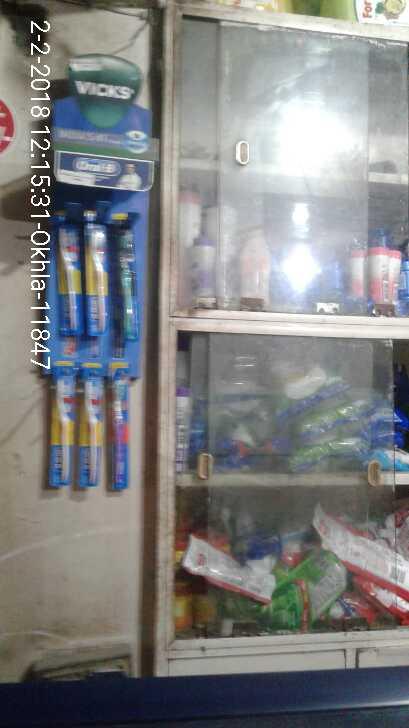oralb: (50, 226, 84, 334), (87, 230, 116, 347), (117, 227, 144, 343), (49, 369, 74, 480), (109, 374, 131, 486), (84, 369, 101, 487)
